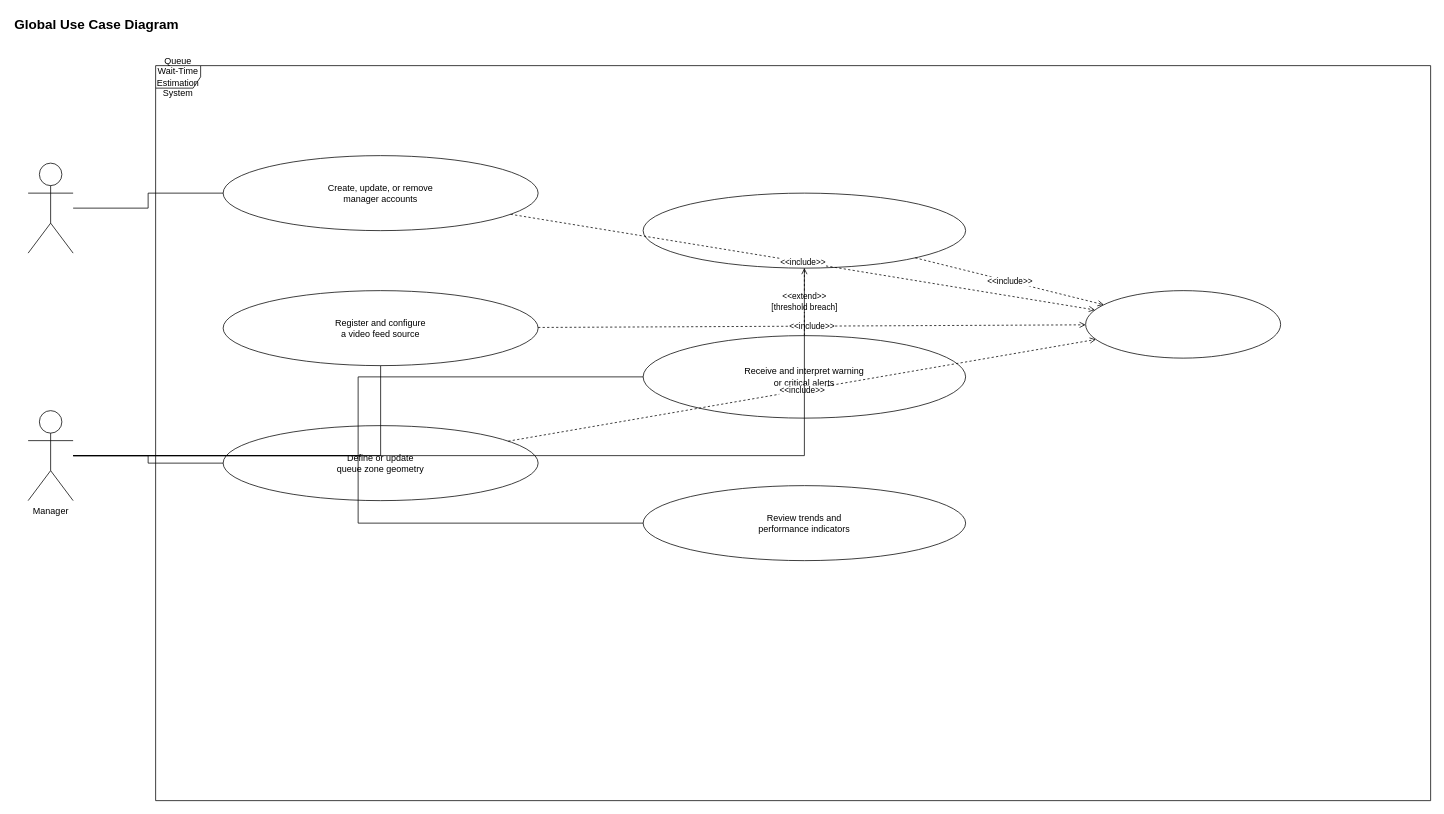
This 1444x814 diagram has some shape labels left out. The shapes that lost their labels are listed below. From the top down, each one's box as (x1, y1, x2, y2) in pixels, then its label:
(27, 162, 73, 253): Administrator
(642, 192, 966, 268): Monitor live queue metrics and feed status
(1085, 290, 1281, 358): Authenticate user
